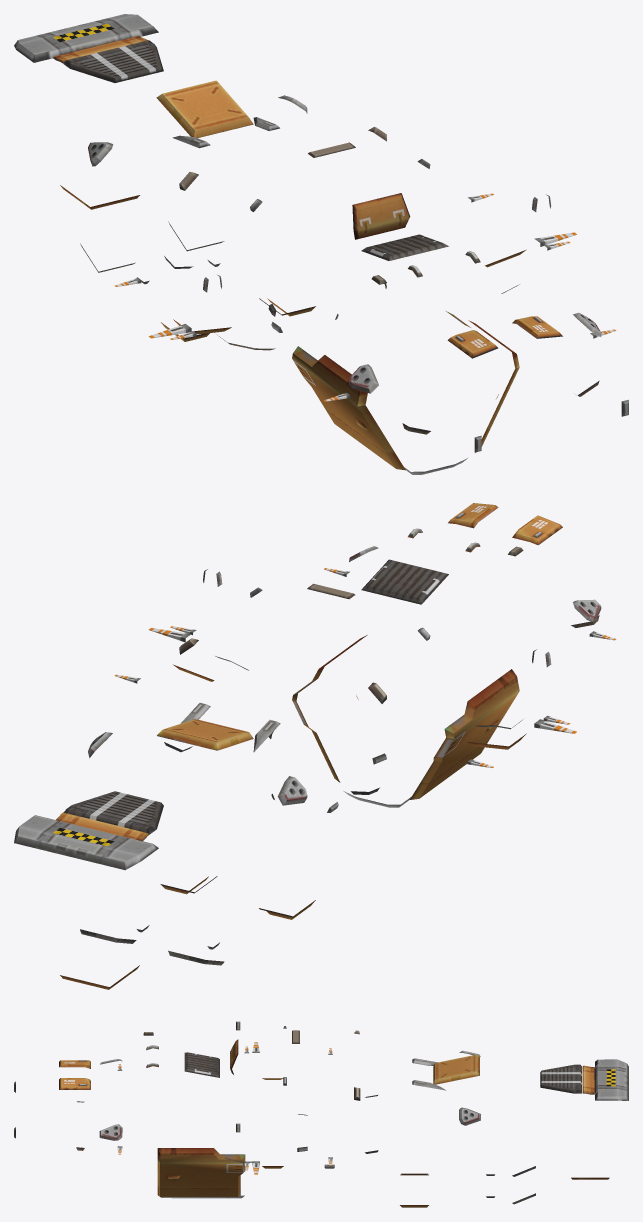
Rendered from hgn_ion_cannon_frigate_01_t5.glb.
3 views of the same model, one above another, from view 1: azimuth 30°, elevation 25°; view 2: azimuth 150°, elevation 25°; view 3: azimuth 270°, elevation 25° (orthographic). The views are drawn at different scales.
Visible parts, largest first — view 1: hgn_ion_cannon_frigate_01_t5_LOD0; view 2: hgn_ion_cannon_frigate_01_t5_LOD0; view 3: hgn_ion_cannon_frigate_01_t5_LOD0.
Boxes of the visible parts, box(x1,y1,x2,y2) form: hgn_ion_cannon_frigate_01_t5_LOD0: box(14, 14, 628, 474); hgn_ion_cannon_frigate_01_t5_LOD0: box(14, 503, 616, 989); hgn_ion_cannon_frigate_01_t5_LOD0: box(14, 1021, 628, 1207).
Size of what is drawn, in the model's own units: 1.76 by 0.9668 by 3.46.
1 material, 1 textured.
